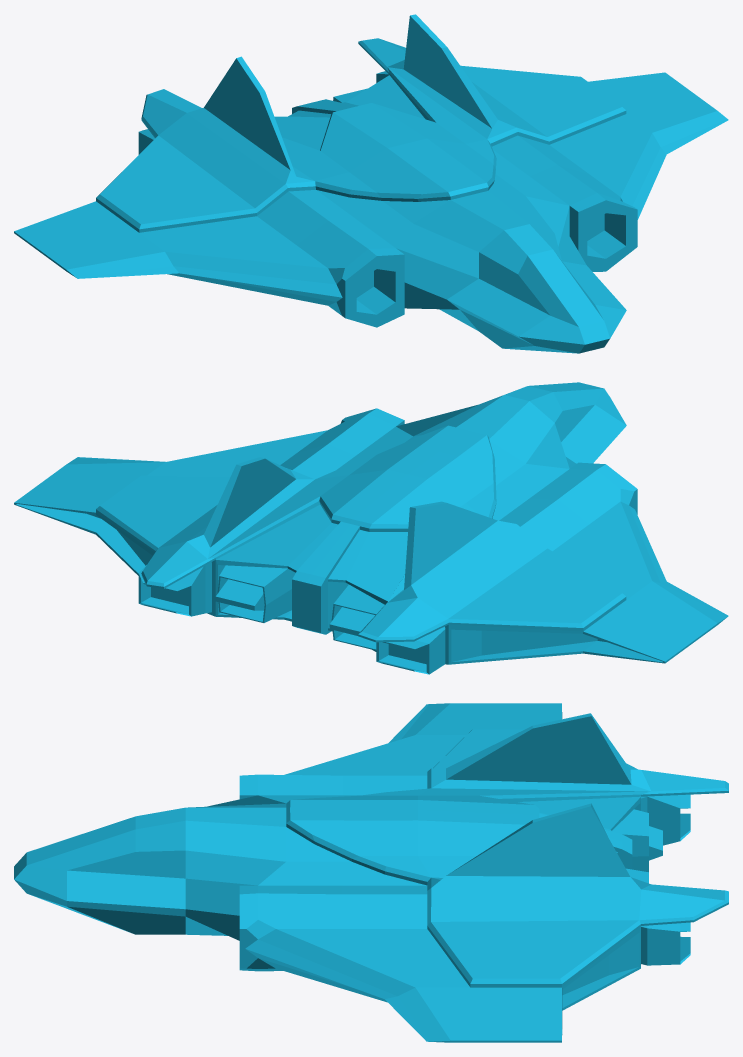
File: Ship.gltf
3 renders of one model, top to bottom at view 1: azimuth 30°, elevation 25°; view 2: azimuth 150°, elevation 25°; view 3: azimuth 270°, elevation 25°, orthographic. The views are drawn at different scales.
Parts seen in each view (by area): view 1: Ship; view 2: Ship; view 3: Ship.
Part boxes in pixels (left/top/right/bottom): Ship: left=14, top=14, right=728, bottom=353; Ship: left=14, top=382, right=728, bottom=674; Ship: left=14, top=703, right=728, bottom=1042.
Bounding box in the file's own units: 31.3 × 6.72 × 28.02.
